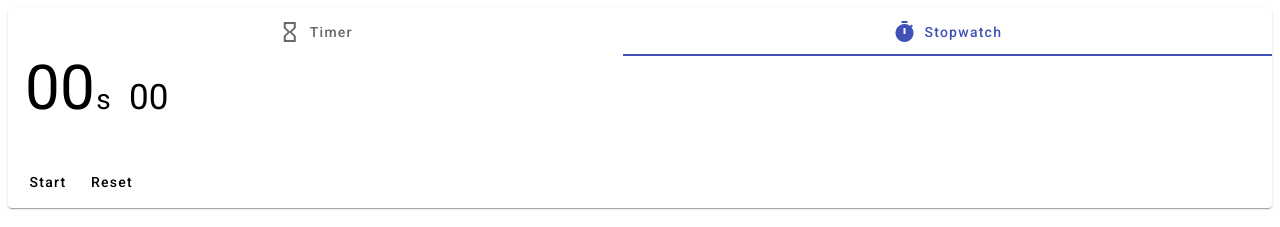
Scenario: Timer page working › Able to visit Timer page via tab from stopwatch.
Click the text "Timer" at (316, 32), box [278, 20, 353, 44]
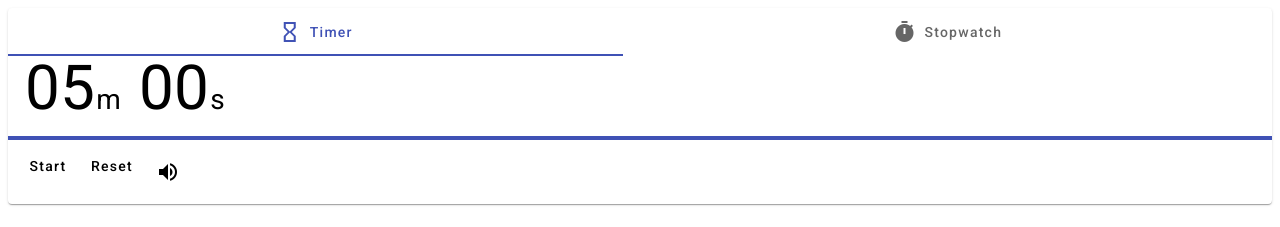
Expected: the text "05" is shown, [25, 56, 96, 124]
Expected: the 3rd picture is shown, [156, 160, 180, 184]
